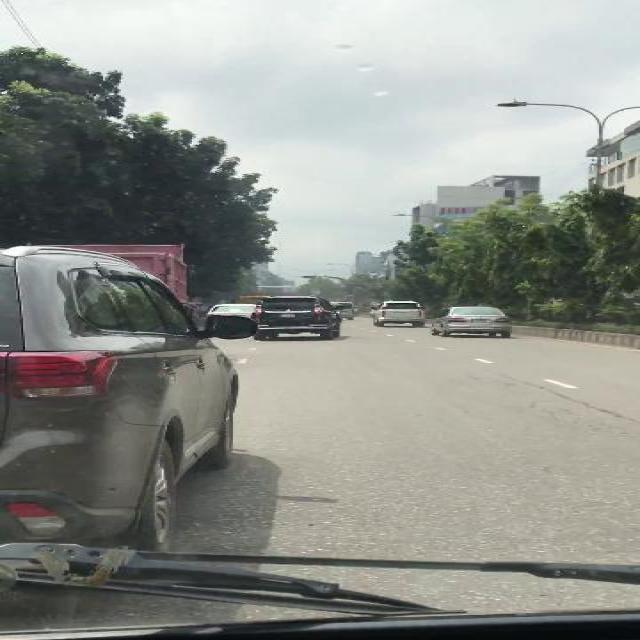vehicle: (250, 295, 342, 343), (429, 307, 516, 338), (372, 300, 426, 328), (336, 302, 359, 321)
